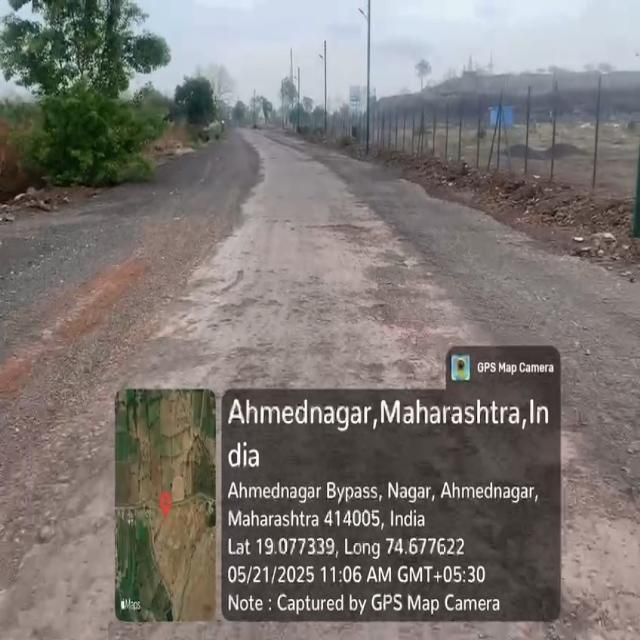damage surface: (560, 428, 628, 638), (313, 218, 427, 322), (213, 262, 295, 386)
